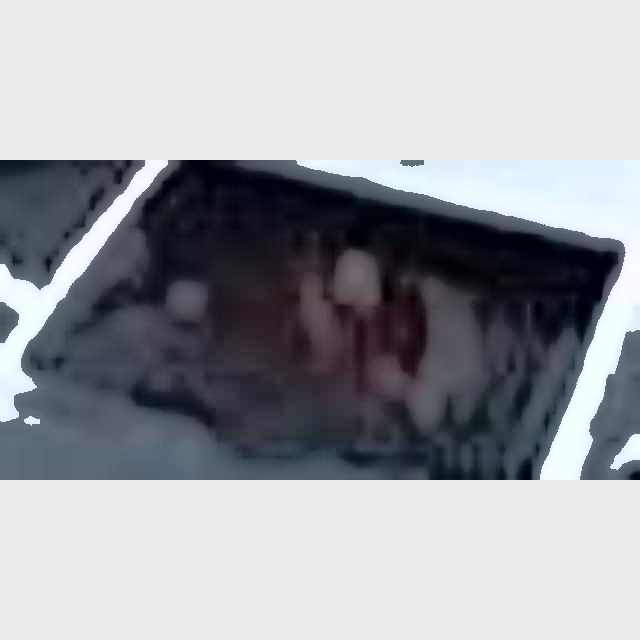pakai: (187, 196, 453, 436)
